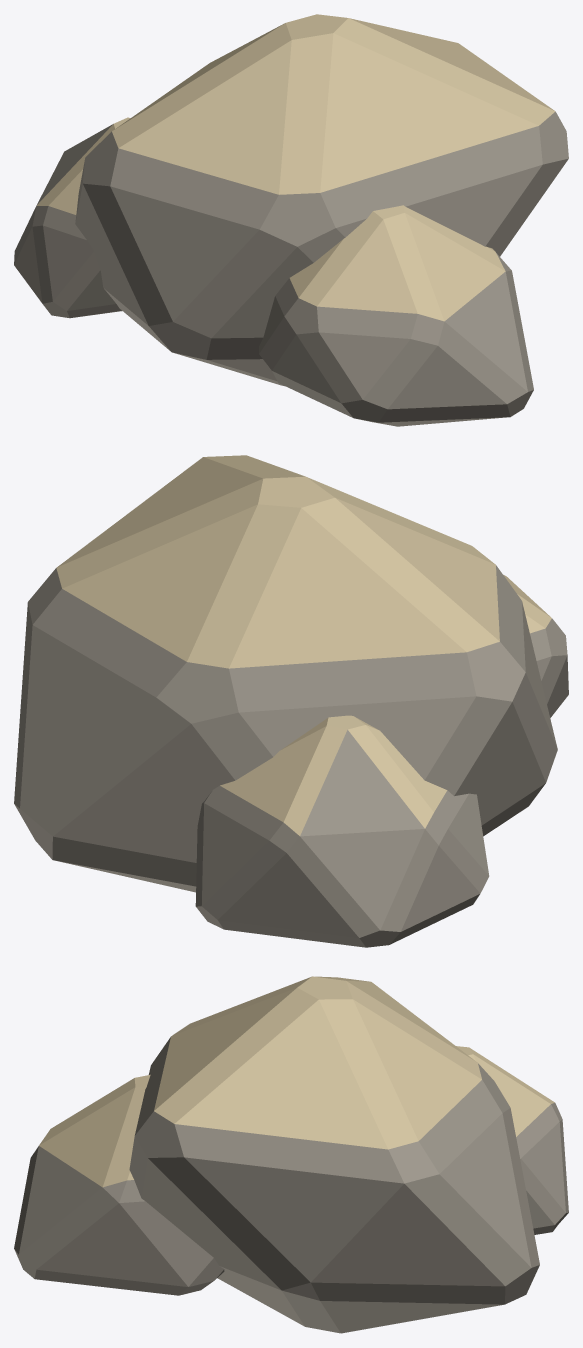
Rendered from Rock_C.fbx.
The picture shows the model from 3 angles, top to bottom: view 1: azimuth 30°, elevation 25°; view 2: azimuth 150°, elevation 25°; view 3: azimuth 270°, elevation 25°; orthographic projection. The views are drawn at different scales.
Parts seen in each view (by area): view 1: Rock_C; view 2: Rock_C; view 3: Rock_C.
Part boxes in pixels (x1,y1,x2,y2): Rock_C: (14,14,568,426); Rock_C: (14,455,568,947); Rock_C: (14,976,568,1333).
Bounding box in the file's own units: 1.37 × 1.15 × 1.69.
